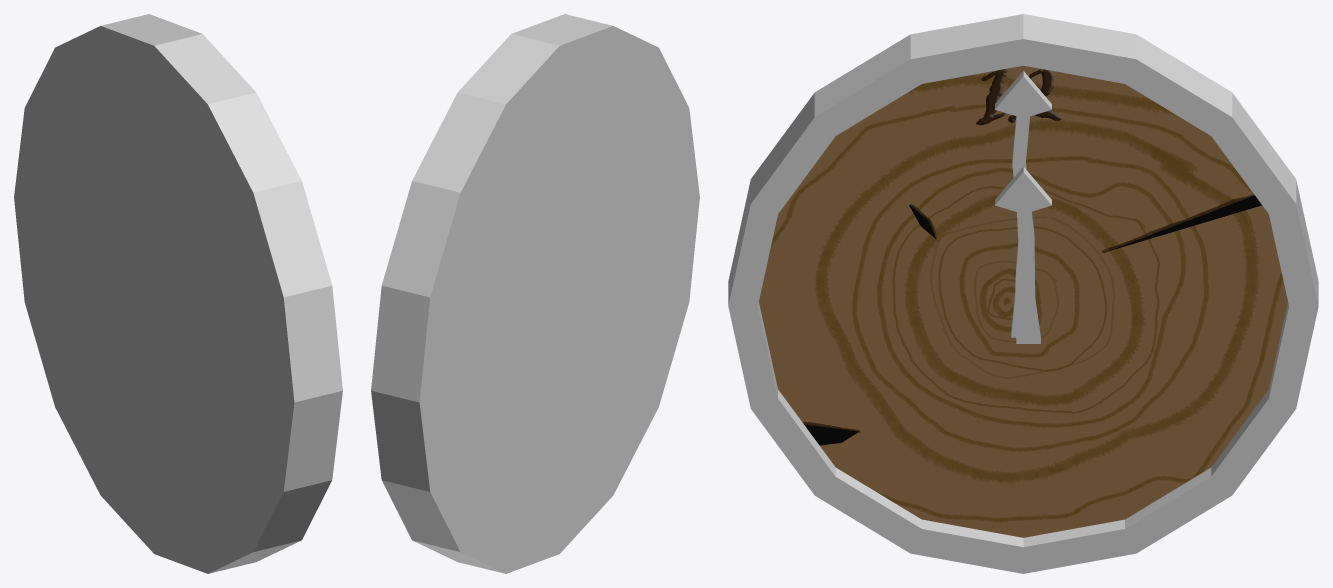
The model's file is altermative_clock.fbx.
The picture shows the model from 3 angles, left to right: view 1: azimuth 30°, elevation 25°; view 2: azimuth 150°, elevation 25°; view 3: azimuth 270°, elevation 25°; orthographic projection. The views are drawn at different scales.
Visible parts, largest first — view 1: Clock; view 2: Clock; view 3: ClockBoard, Clock, ClockArm_Short, ClockArm_Long.
Part boxes in pixels (x1,y1,x2,y2): Clock: (14,14,342,573); Clock: (371,14,699,573); ClockBoard: (759,65,1287,537); Clock: (728,14,1318,573); ClockArm_Short: (995,166,1051,343); ClockArm_Long: (995,71,1051,337).
Bounding box in the file's own units: 8.9 × 80 × 80.
